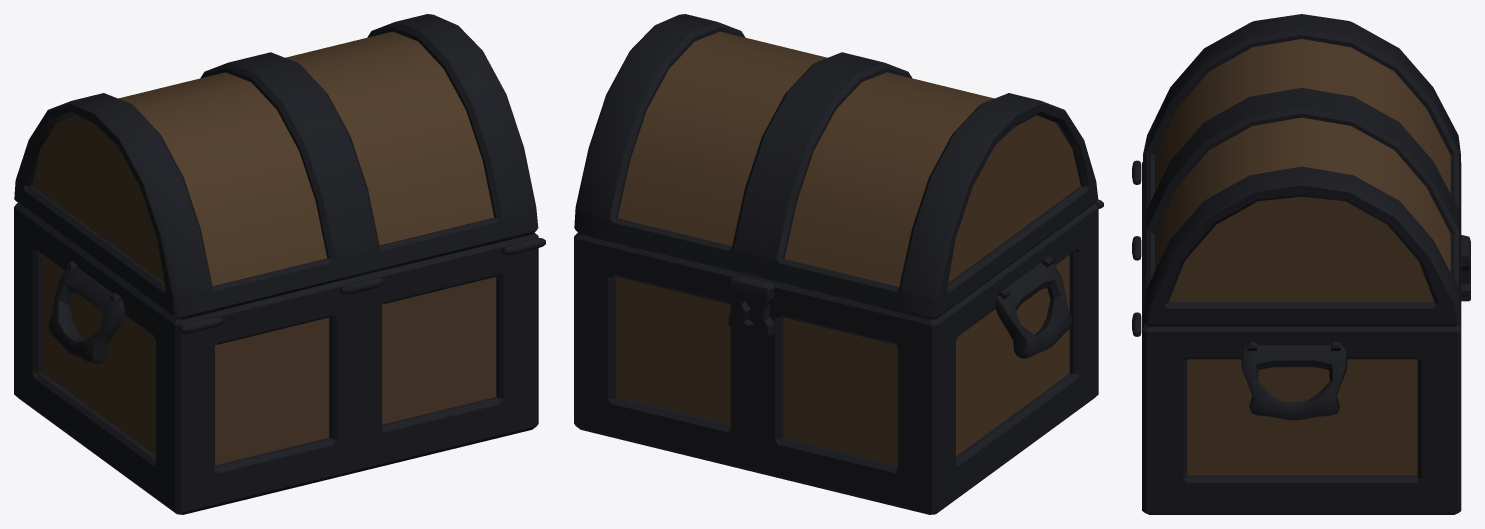
Rendered from RPGFXChest.FBX.
The picture shows the model from 3 angles, left to right: view 1: azimuth 30°, elevation 25°; view 2: azimuth 150°, elevation 25°; view 3: azimuth 270°, elevation 25°; orthographic projection. The views are drawn at different scales.
Visible parts, largest first — view 1: Object001, Cylinder001; view 2: Object001, Cylinder001; view 3: Object001, Cylinder001.
Boxes of the visible parts, box(x1,y1,x2,y2) form: Object001: box(14, 14, 538, 319); Cylinder001: box(14, 203, 545, 514); Object001: box(574, 14, 1098, 319); Cylinder001: box(574, 199, 1103, 514); Object001: box(1143, 14, 1460, 326); Cylinder001: box(1132, 160, 1470, 514).
Bounding box in the file's own units: 27.35 × 21.27 × 19.6.
